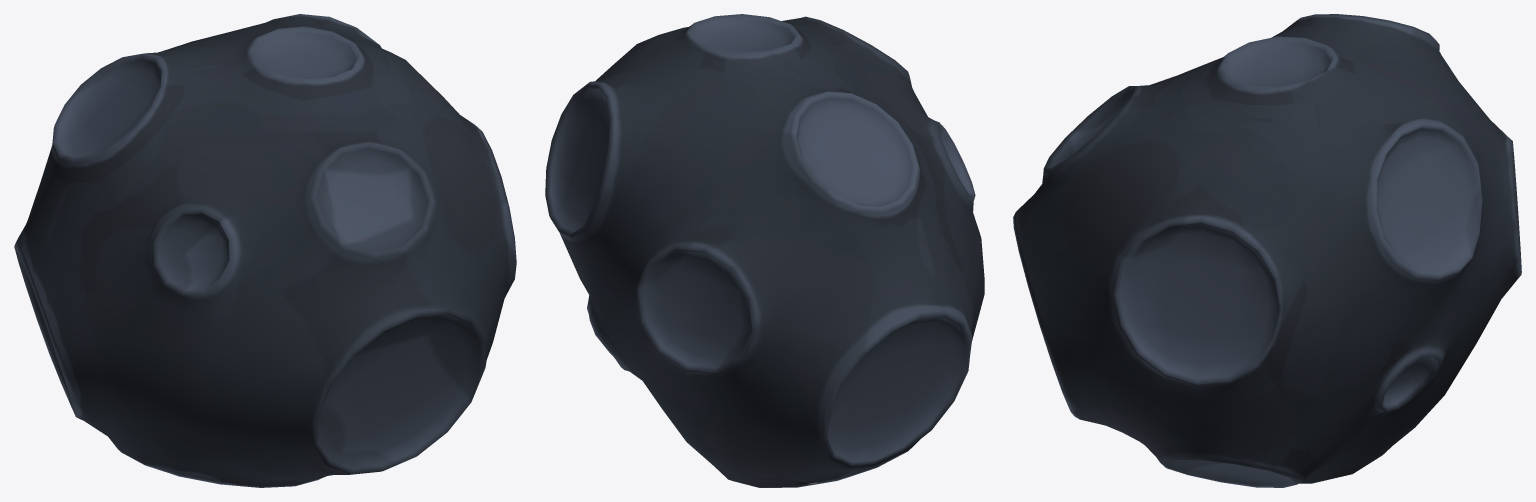
Rendered from Asteroid_Mesh_5.fbx.
3 renders of one model, left to right at view 1: azimuth 30°, elevation 25°; view 2: azimuth 150°, elevation 25°; view 3: azimuth 270°, elevation 25°, orthographic. The views are drawn at different scales.
Visible parts, largest first — view 1: Asteroid_Mesh_5; view 2: Asteroid_Mesh_5; view 3: Asteroid_Mesh_5.
Part boxes in pixels (<box>): Asteroid_Mesh_5: <box>14,14,516,487</box>; Asteroid_Mesh_5: <box>545,14,984,487</box>; Asteroid_Mesh_5: <box>1013,14,1521,487</box>.
Bounding box in the file's own units: 9.06 × 8.64 × 9.39.
